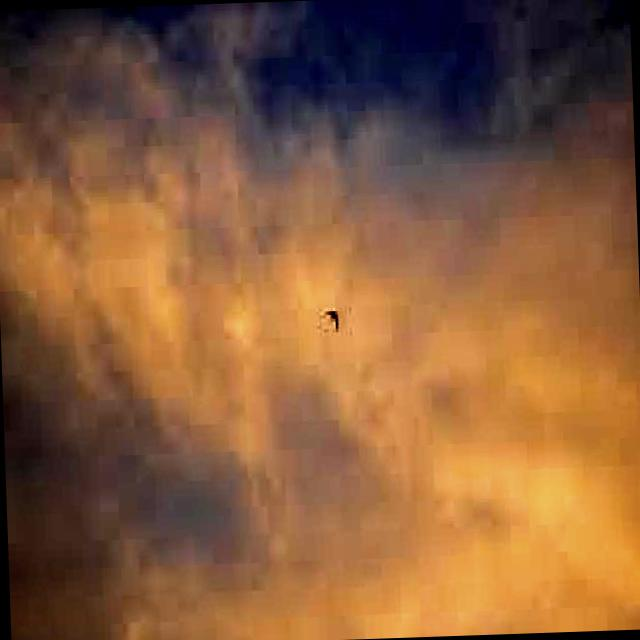bird: (320, 300, 342, 337)
